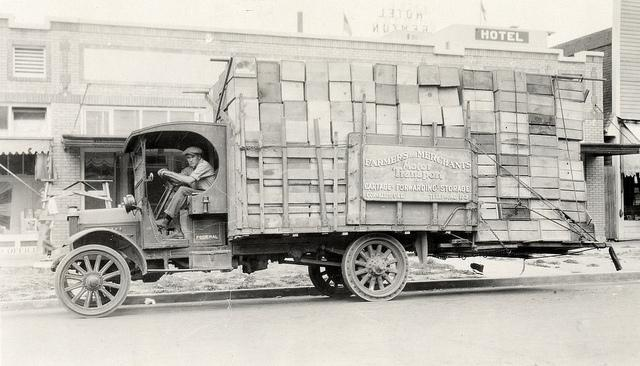truck: (54, 60, 606, 318)
